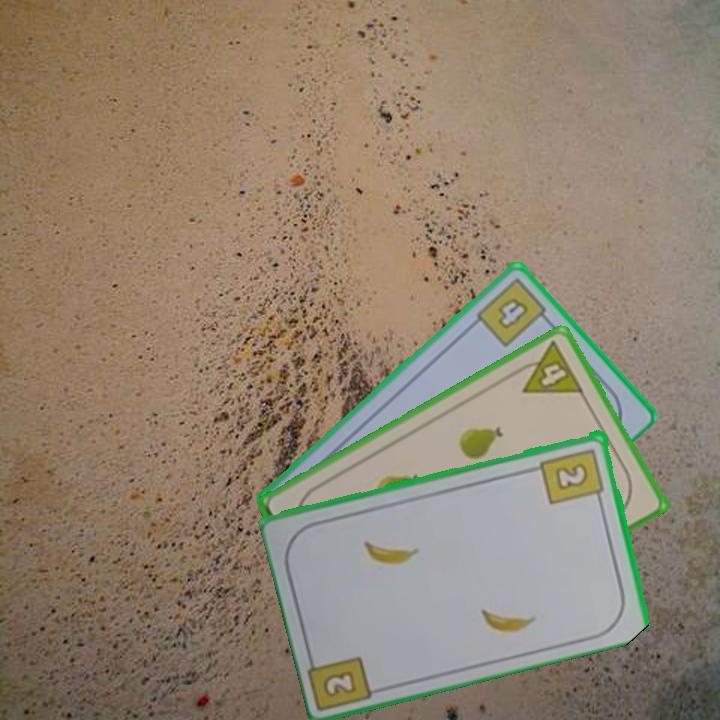2b: (537, 444, 607, 507), (319, 666, 360, 701)
4b: (472, 274, 555, 350)
4p: (509, 337, 587, 397)
